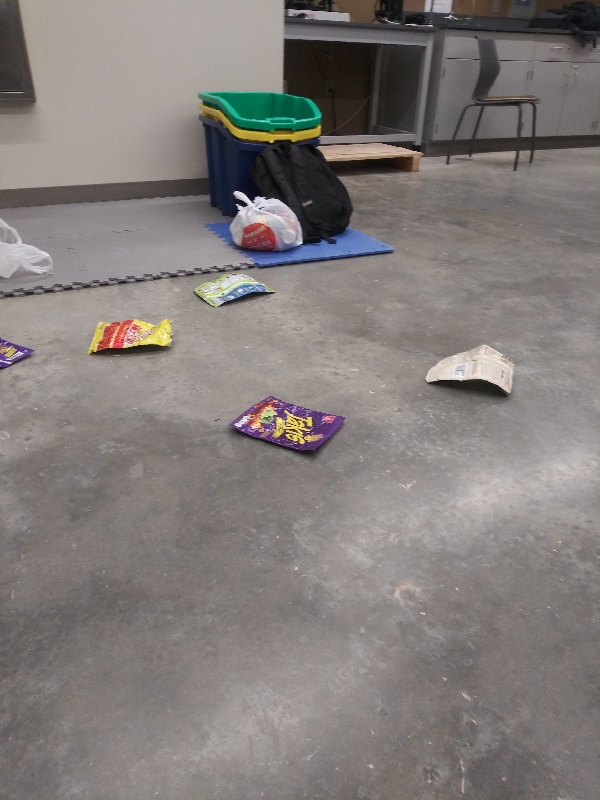bag: (226, 392, 356, 465), (419, 339, 520, 403), (81, 312, 183, 359), (187, 276, 281, 315), (1, 330, 34, 378)
